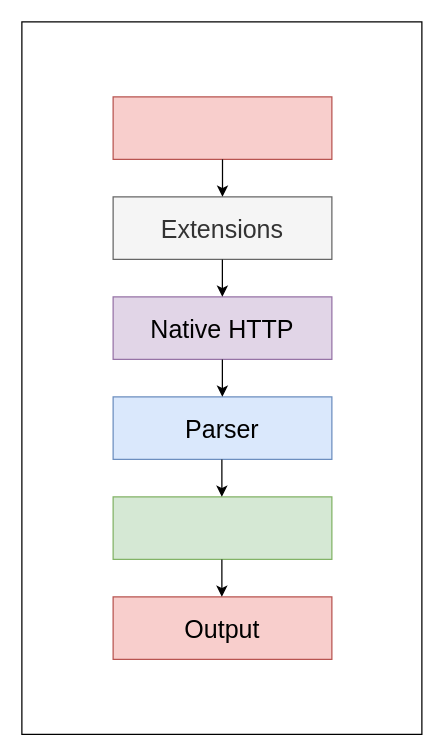
Image size: 444x756. Some labels were removed from this diagram. The box of each missing label's shape, as (x1, y1, x2, y2) in pixels:
Input: (112, 96, 332, 159)
Results: (112, 496, 332, 559)
